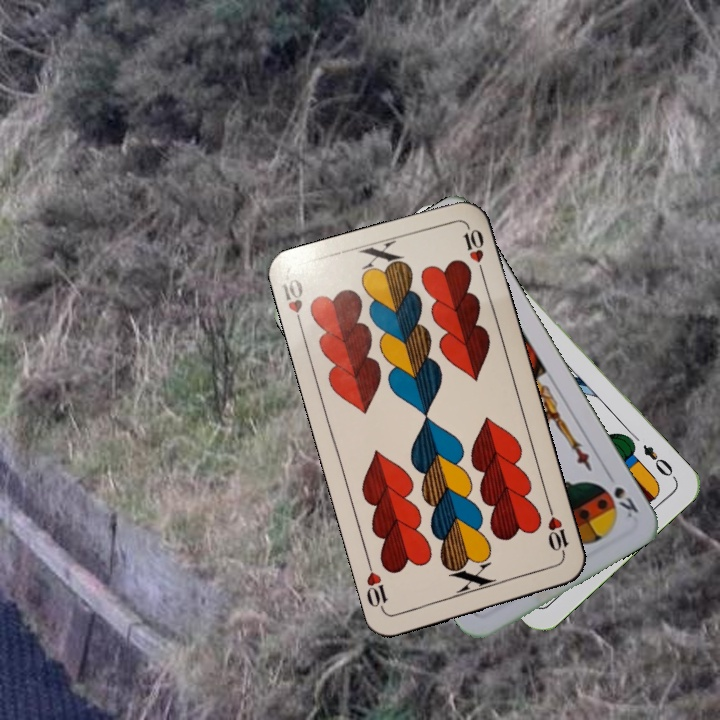EO: (638, 440, 679, 482)
H10: (278, 272, 306, 333), (544, 502, 572, 560)
SK: (602, 468, 642, 521)
